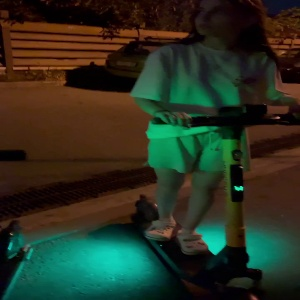human on a scooter: (129, 1, 300, 300)
